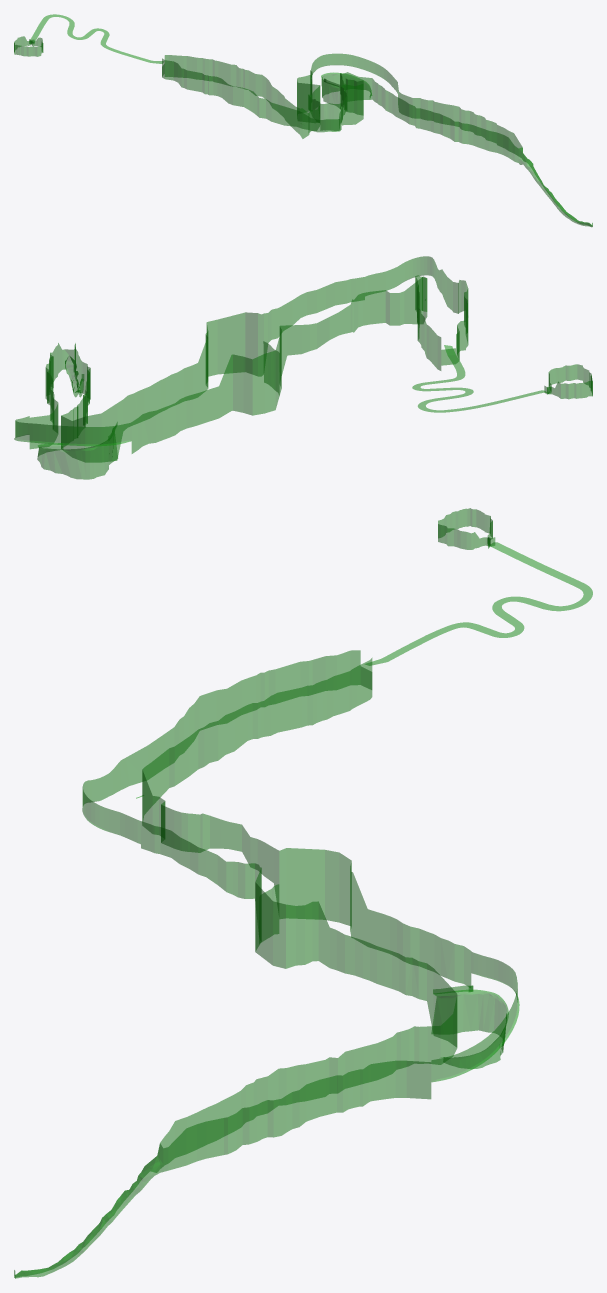
File: wall.obj
The picture shows the model from 3 angles, top to bottom: view 1: azimuth 30°, elevation 25°; view 2: azimuth 150°, elevation 25°; view 3: azimuth 270°, elevation 25°; orthographic projection. The views are drawn at different scales.
Bounding box in the file's own units: 1685 × 721 × 1022.
